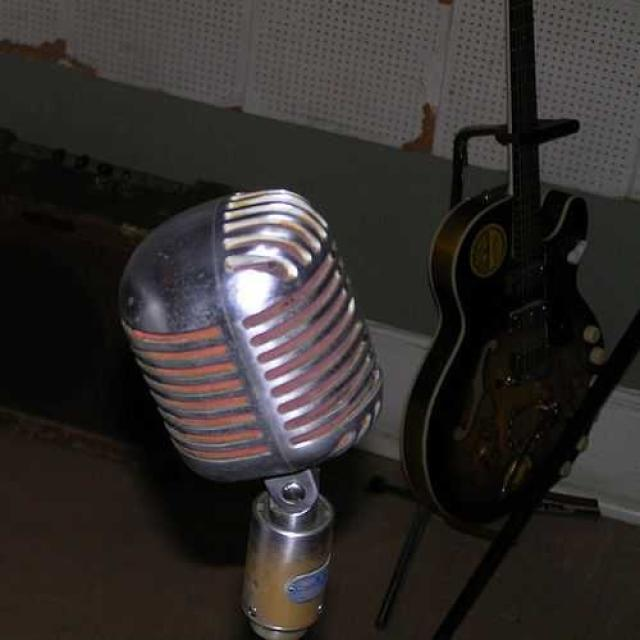microphone: (120, 194, 380, 640)
